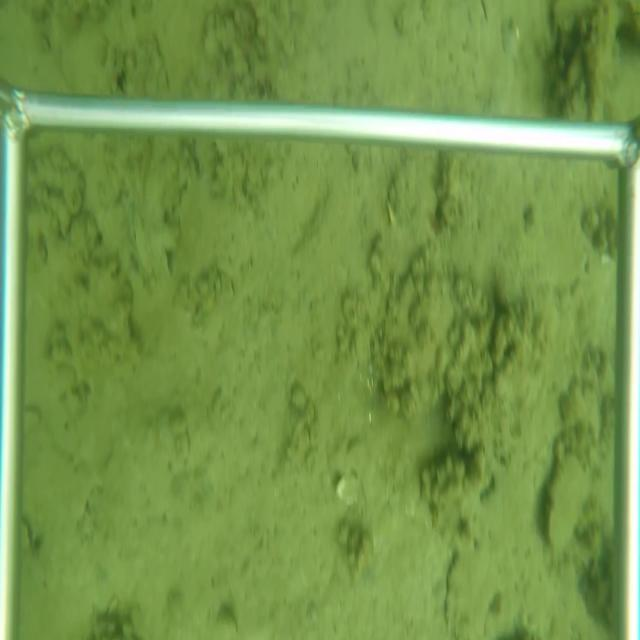Oyster-Indeterminate: (545, 451, 593, 572)
